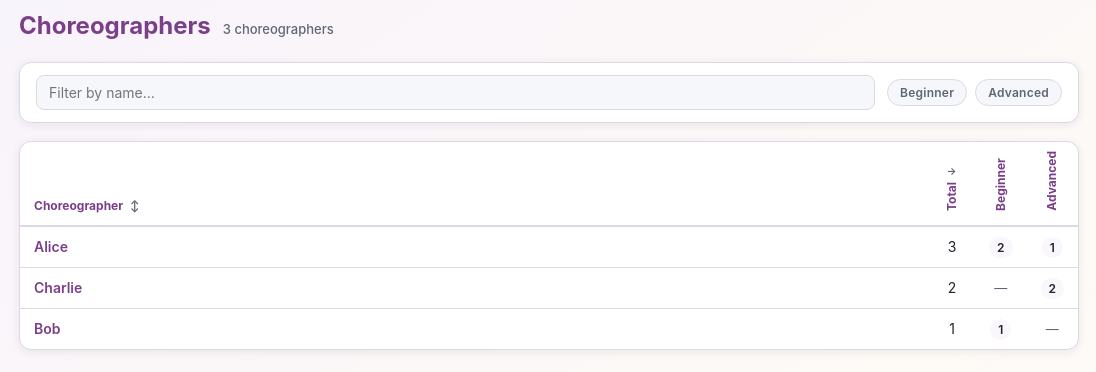
Scenario: ChoreographersPage › filters authors by name
Expected: the button "Alice" is shown, [34, 238, 68, 255]
Step 1. Type "ali" into the search field with placeholder "Filter by name…" → {"x": 456, "y": 92}, box [36, 75, 875, 110]
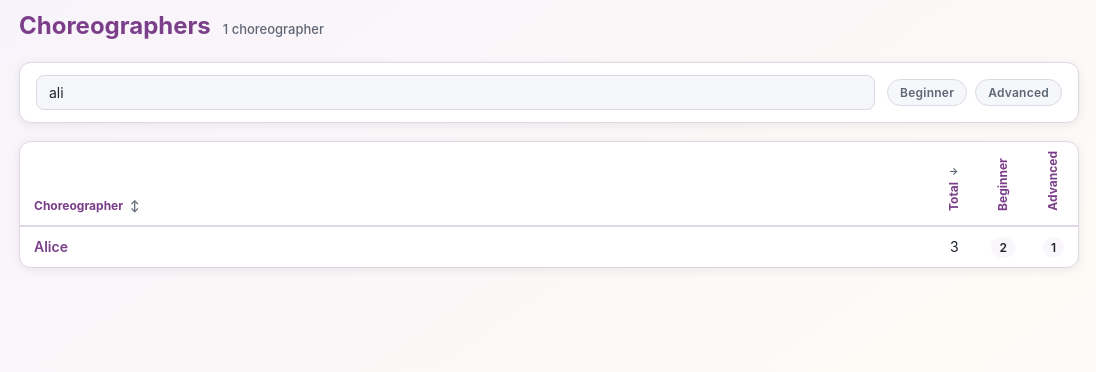
Expected: the button "Alice" is shown, [34, 238, 68, 255]
Expected: the button "Bob" is gone
Expected: the button "Charlie" is gone
